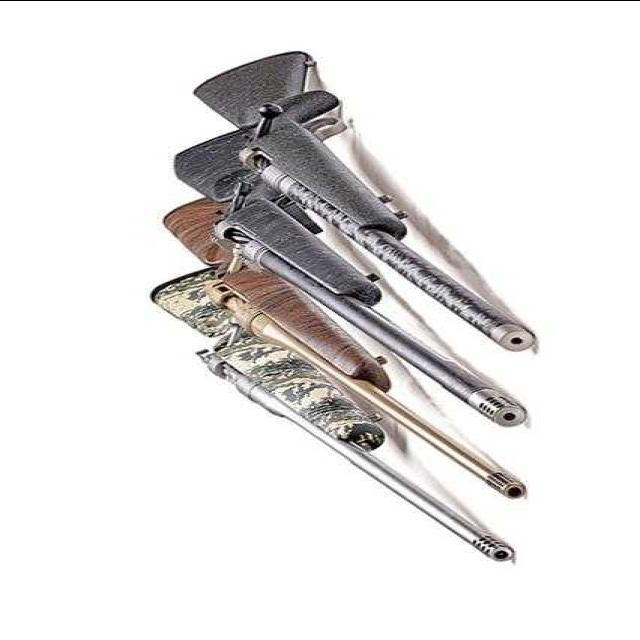heavyweapon: (194, 47, 562, 359)
